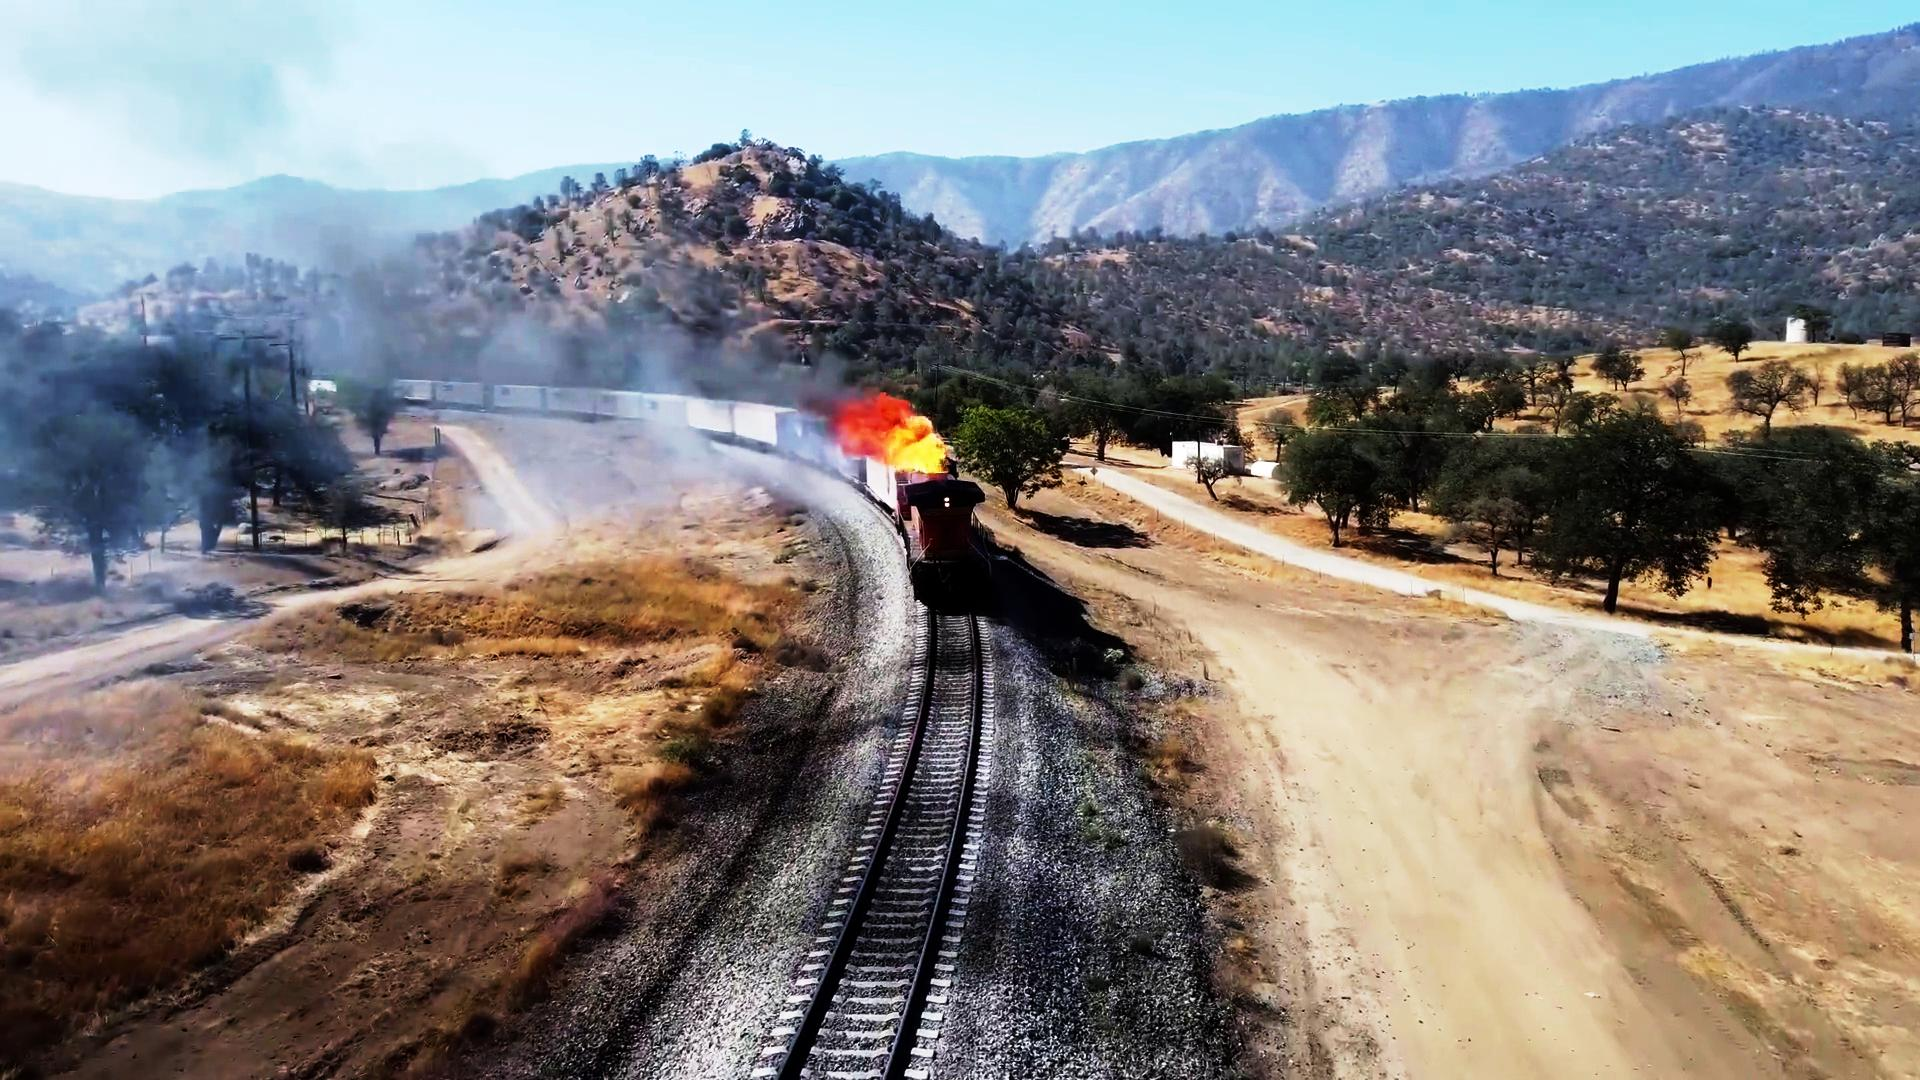fire: (848, 384, 961, 479)
smoke: (550, 306, 686, 505)
